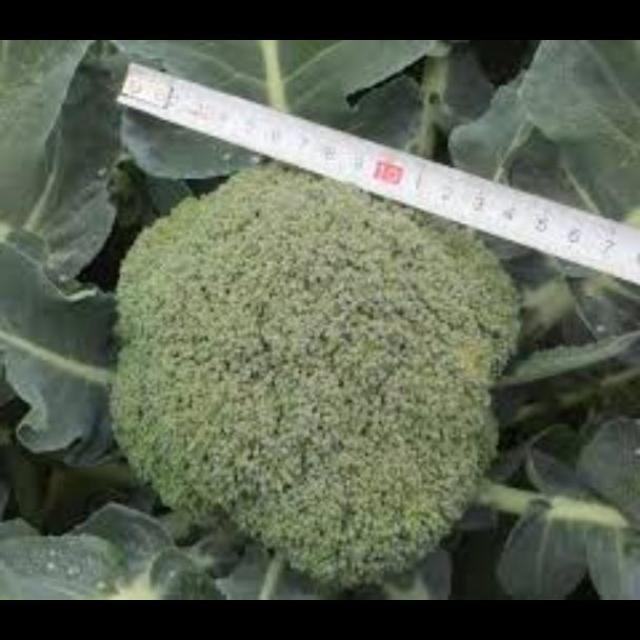Broccoli: (61, 150, 539, 574)
